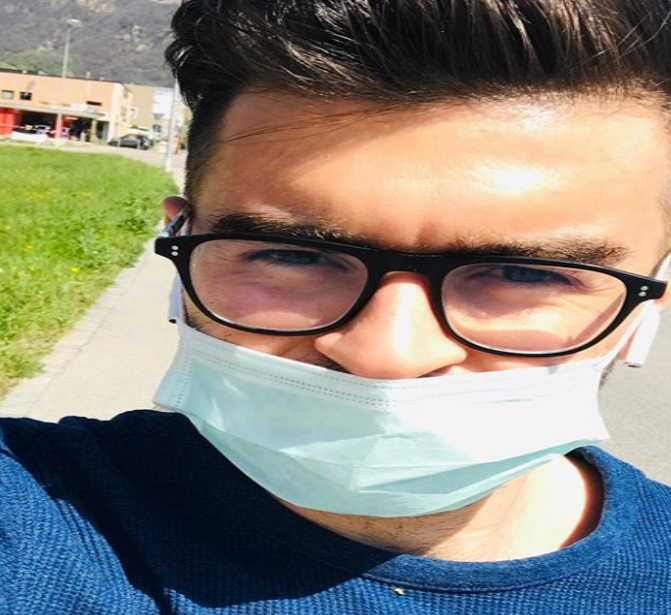mask_weared_incorrect: (146, 43, 671, 525)
